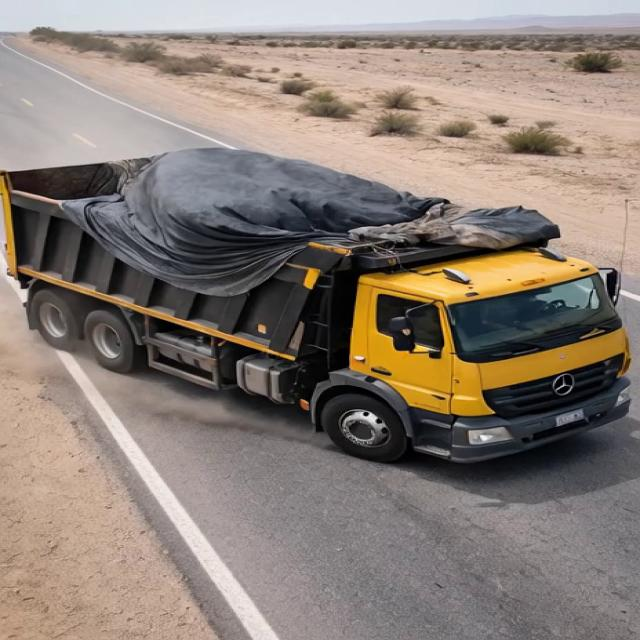Box: (5, 153, 565, 259)
Truck: (7, 118, 638, 440)
